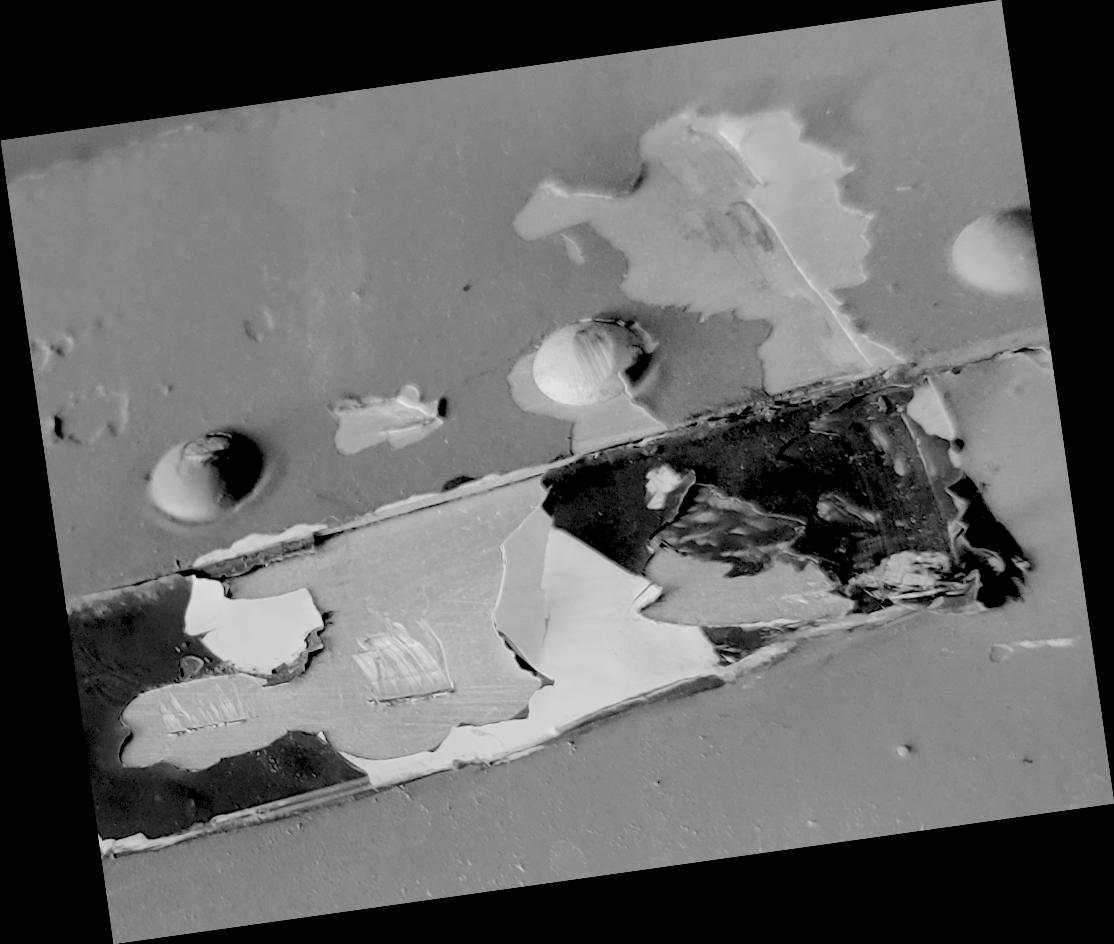paint-off: (1, 0, 1114, 944)
